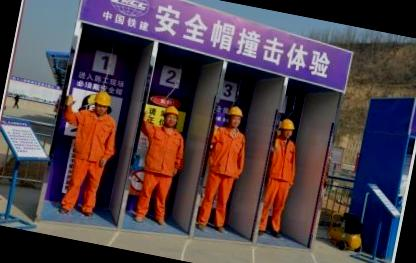helmet: (277, 114, 298, 136), (224, 104, 245, 122), (162, 106, 183, 122), (92, 90, 112, 106)
person: (60, 86, 124, 218), (132, 100, 192, 224), (199, 103, 254, 231), (257, 114, 306, 240)
